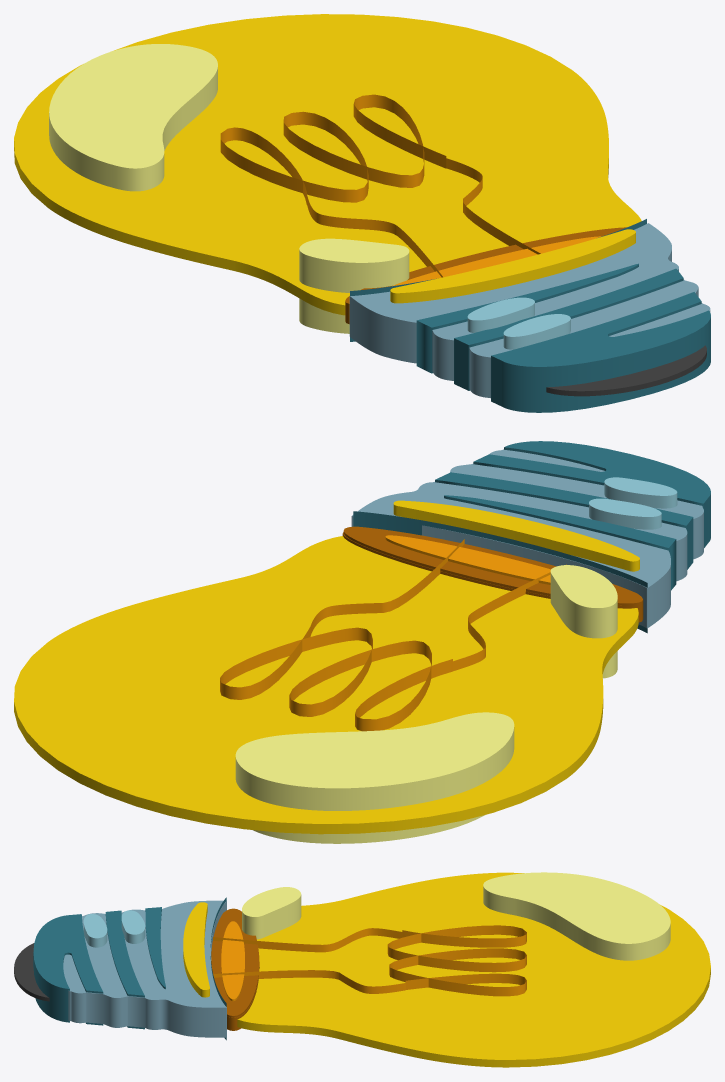
The model's file is emoji_u1f4a1.glb.
3 views of the same model, one above another, from view 1: azimuth 30°, elevation 25°; view 2: azimuth 150°, elevation 25°; view 3: azimuth 270°, elevation 25° (orthographic). The views are drawn at different scales.
Parts seen in each view (by area): view 1: emoji_u1f4a1; view 2: emoji_u1f4a1; view 3: emoji_u1f4a1.
Boxes of the visible parts, box(x1,y1,x2,y2) form: emoji_u1f4a1: box(14, 14, 710, 412); emoji_u1f4a1: box(14, 441, 710, 843); emoji_u1f4a1: box(14, 872, 710, 1067).
Size of the model in its own units: 0.0215 by 0.0028 by 0.0338.
